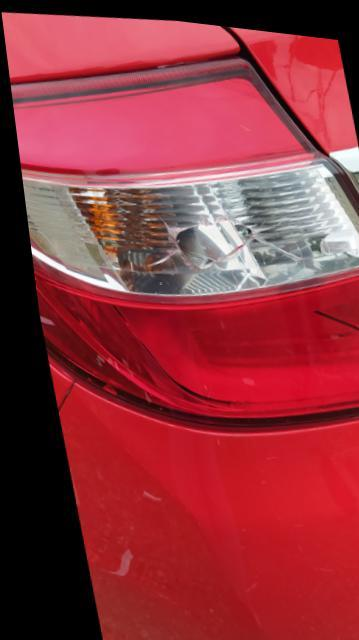lamp broken: (8, 48, 359, 424)
